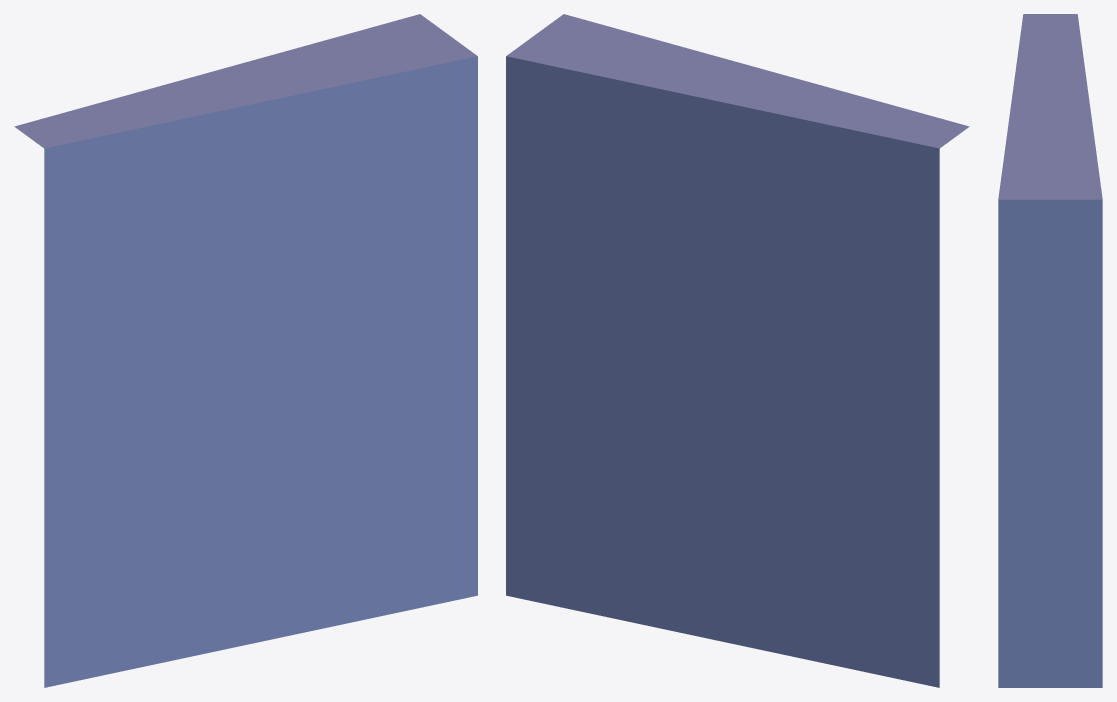
The picture shows the model from 3 angles, left to right: view 1: azimuth 30°, elevation 25°; view 2: azimuth 150°, elevation 25°; view 3: azimuth 270°, elevation 25°; orthographic projection. The views are drawn at different scales.
Parts seen in each view (by area): view 1: Joint_0_Object_0; view 2: Joint_0_Object_0; view 3: Joint_0_Object_0.
Boxes of the visible parts, bbox=[...] form: Joint_0_Object_0: bbox=[14, 14, 477, 687]; Joint_0_Object_0: bbox=[506, 14, 969, 687]; Joint_0_Object_0: bbox=[998, 14, 1102, 687].
Size of the model in its own units: 681 by 837 by 162.
